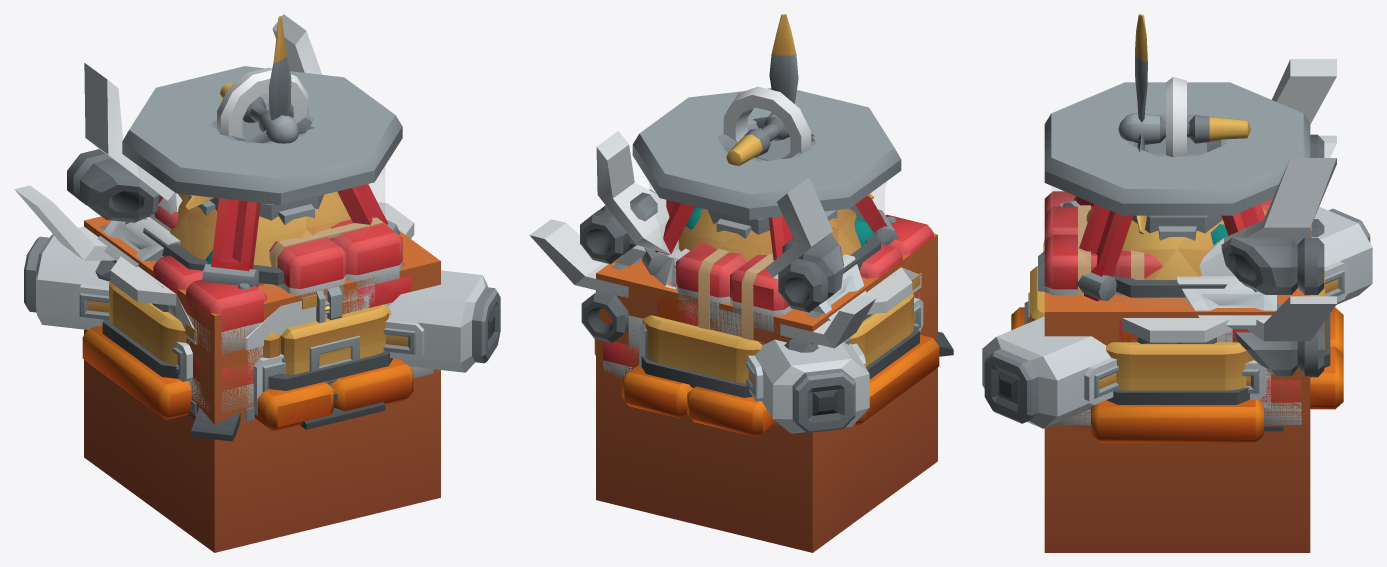
The model's file is spacebase.glb.
3 views of the same model, side by side, from view 1: azimuth 30°, elevation 25°; view 2: azimuth 150°, elevation 25°; view 3: azimuth 270°, elevation 25° (orthographic). The views are drawn at different scales.
Visible parts, largest first — view 1: terrain_mining, eco_module, terrain_low, tunnel_diagonal_long_A, terrain_slope_outer_corner, landingpad_large, dropship_packed, basemodule_A, mobile_base_cargo, drill_structure, cargodepot_A, terrain_slope (+14 smaller); view 2: terrain_mining, terrain_low, eco_module, terrain_slope, dropship_packed, landingpad_large, tunnel_diagonal_long_A, mobile_base_cargo, windturbine_tall_fan, terrain_slope_inner_corner, basemodule_B, dropship_door_left (+13 smaller); view 3: terrain_low, eco_module, terrain_mining, dropship_packed, tunnel_diagonal_long_A, landingpad_large, basemodule_E, drill_structure, windturbine_tall_fan, dropship_door_left, mobile_base_cargo, terrain_slope_outer_corner (+9 smaller).
Part boxes in pixels (x1=…): terrain_mining: x1=84, y1=216, x2=440, y2=552; eco_module: x1=122, y1=66, x2=402, y2=264; terrain_low: x1=84, y1=359, x2=440, y2=552; tunnel_diagonal_long_A: x1=24, y1=234, x2=500, y2=372; terrain_slope_outer_corner: x1=217, y1=380, x2=440, y2=549; landingpad_large: x1=82, y1=319, x2=413, y2=431; dropship_packed: x1=67, y1=14, x2=321, y2=286; basemodule_A: x1=113, y1=283, x2=390, y2=441; mobile_base_cargo: x1=154, y1=205, x2=402, y2=309; drill_structure: x1=125, y1=103, x2=399, y2=287; cargodepot_A: x1=153, y1=255, x2=266, y2=419; terrain_slope: x1=214, y1=231, x2=440, y2=551; terrain_mining: x1=596, y1=233, x2=937, y2=552; terrain_low: x1=596, y1=368, x2=937, y2=552; eco_module: x1=632, y1=88, x2=901, y2=246; terrain_slope: x1=596, y1=255, x2=812, y2=552; dropship_packed: x1=580, y1=131, x2=866, y2=320; landingpad_large: x1=594, y1=325, x2=939, y2=437; tunnel_diagonal_long_A: x1=746, y1=339, x2=869, y2=433; mobile_base_cargo: x1=676, y1=204, x2=856, y2=344; windturbine_tall_fan: x1=723, y1=14, x2=873, y2=199; terrain_slope_inner_corner: x1=597, y1=255, x2=937, y2=550; basemodule_B: x1=644, y1=315, x2=759, y2=383; dropship_door_left: x1=529, y1=219, x2=628, y2=342; terrain_low: x1=1044, y1=432, x2=1310, y2=552; eco_module: x1=1044, y1=82, x2=1310, y2=245; terrain_mining: x1=1044, y1=291, x2=1310, y2=552; dropship_packed: x1=1177, y1=59, x2=1336, y2=328; tunnel_diagonal_long_A: x1=982, y1=206, x2=1372, y2=428; landingpad_large: x1=1011, y1=301, x2=1343, y2=442; basemodule_E: x1=1086, y1=208, x2=1266, y2=390; drill_structure: x1=1063, y1=114, x2=1265, y2=301; windturbine_tall_fan: x1=1118, y1=14, x2=1250, y2=234; dropship_door_left: x1=1235, y1=296, x2=1336, y2=377; mobile_base_cargo: x1=1043, y1=199, x2=1311, y2=295; terrain_slope_outer_corner: x1=1044, y1=309, x2=1310, y2=552.
Bounding box in the file's own units: 3 × 4 × 2.94.
Materials: 2 (1 with a texture image).
